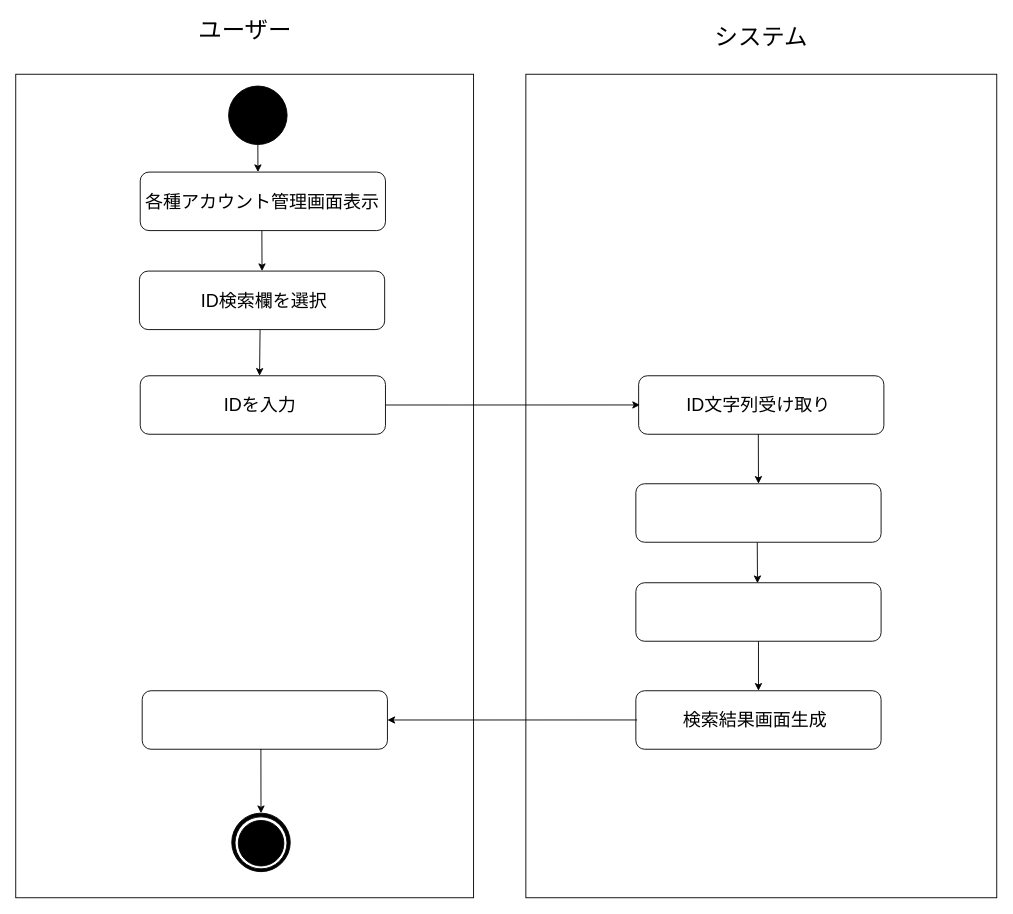
Some shapes in this 1013 by 914 pixel diagram are drawn without their labels. The box of each missing label's shape, as (x1, y1, x2, y2) in pixels:
ID文字列加工: (635, 483, 881, 542)
データベースから取得: (635, 582, 881, 641)
検索結果画面表示: (141, 690, 387, 749)
